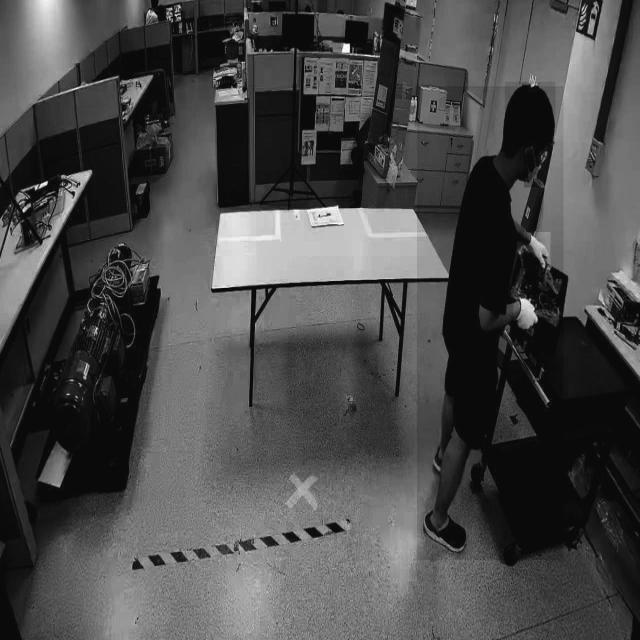face_mask: (524, 154, 540, 188)
hand_glove: (514, 297, 540, 343), (524, 232, 550, 270)
head_nohelmet: (504, 82, 556, 116)
person: (416, 86, 564, 561)
shoes: (423, 505, 470, 552)
